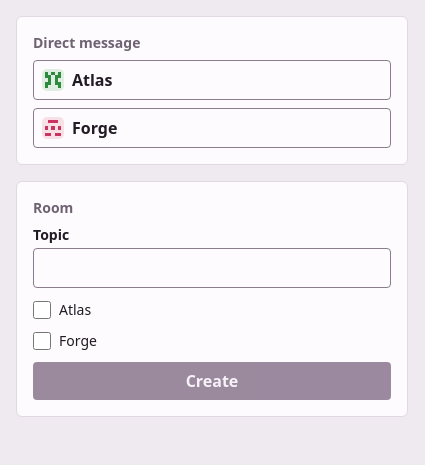
Test: an error that is not an ApiError still shows its message
The image size is (425, 465).
Click the button "Atlas": (92, 80) [33, 60, 391, 100]
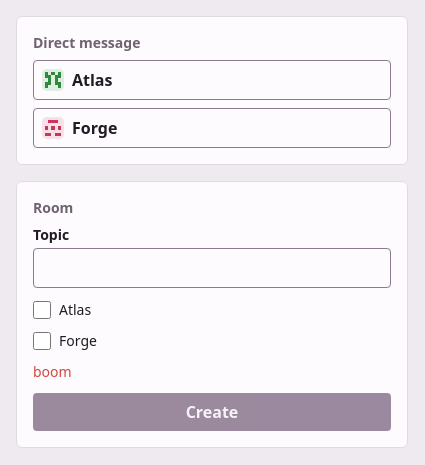
Result: the message reads "boom" at [33, 362, 72, 381]
